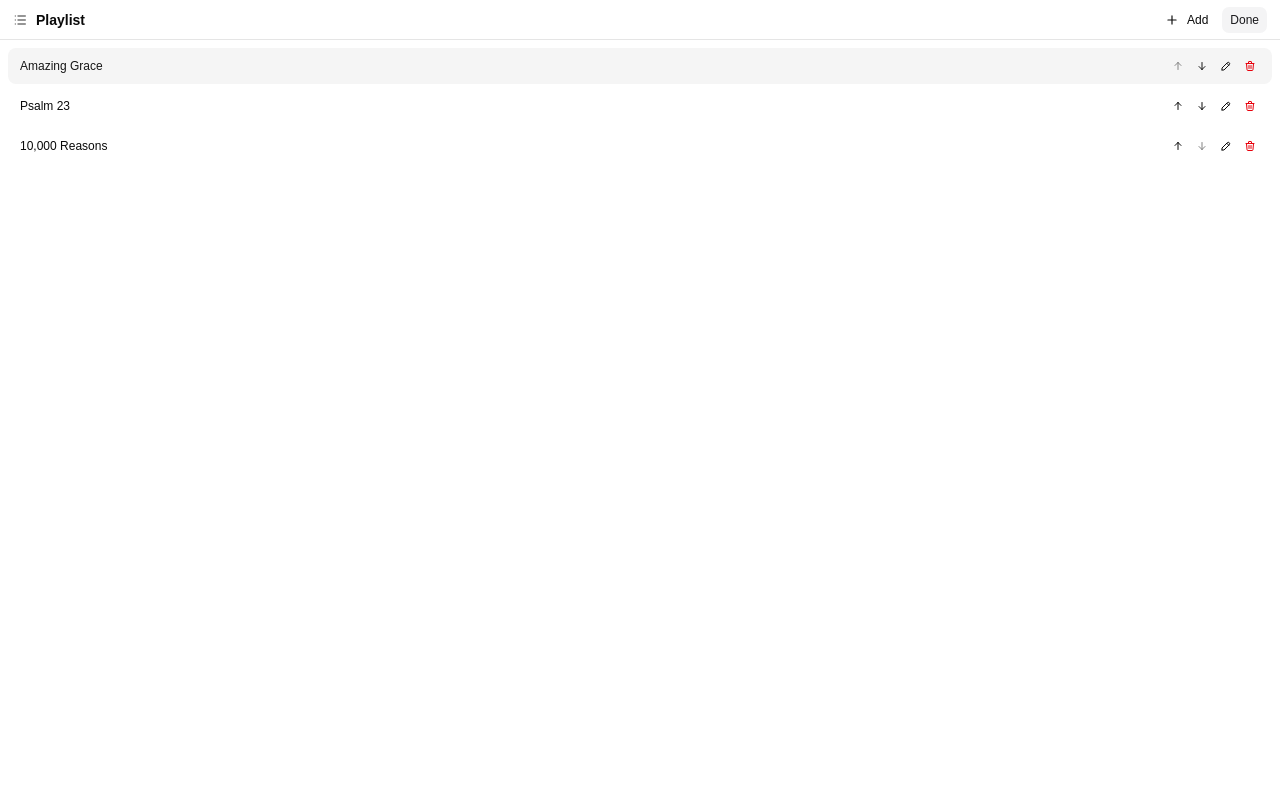
Scenario: PlaylistPanel › deleting the last item in edit mode restores focus to the preceding item
# Click delete on the last item (item 3: 10,000 Reasons)
Click the button named "Delete item" in the row of "10,000 Reasons" at (1250, 146), box [1240,136,1260,156]
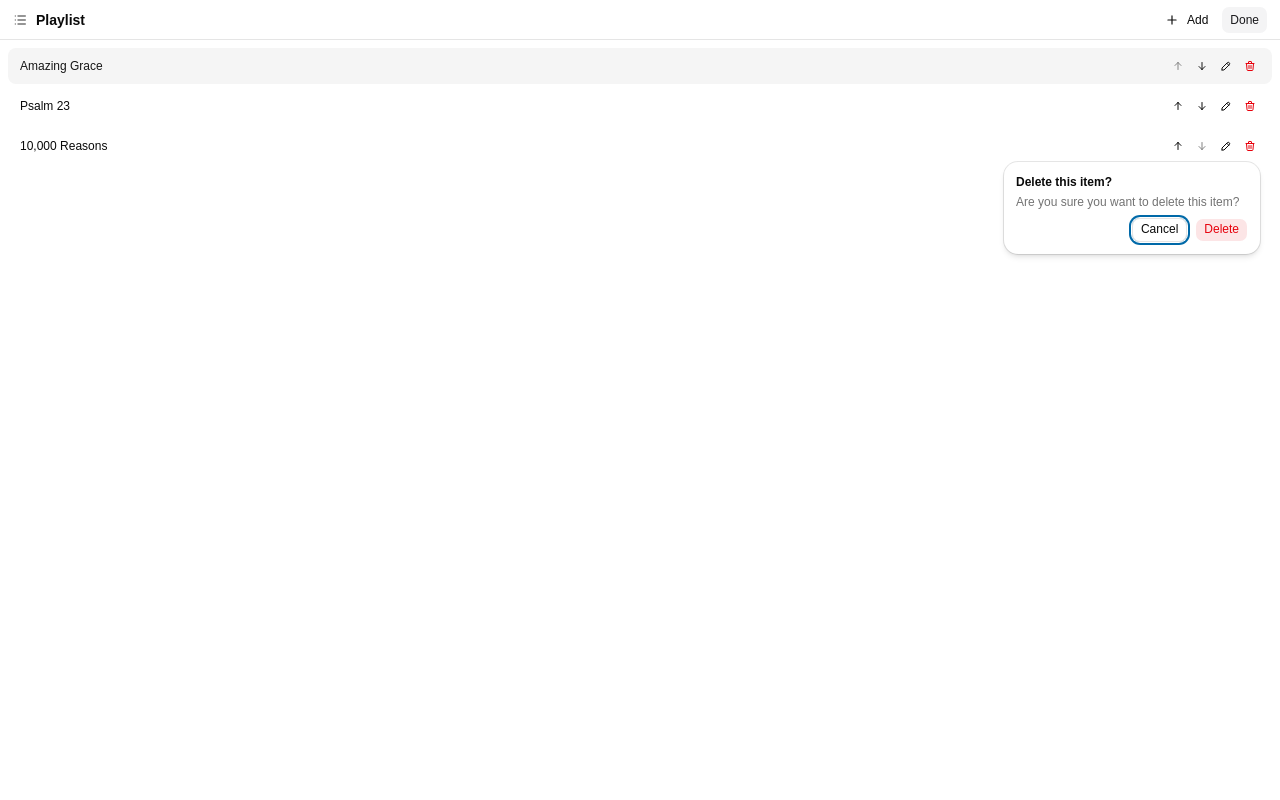
Click the button "Delete" at (1222, 230), box [1195,218,1248,242]
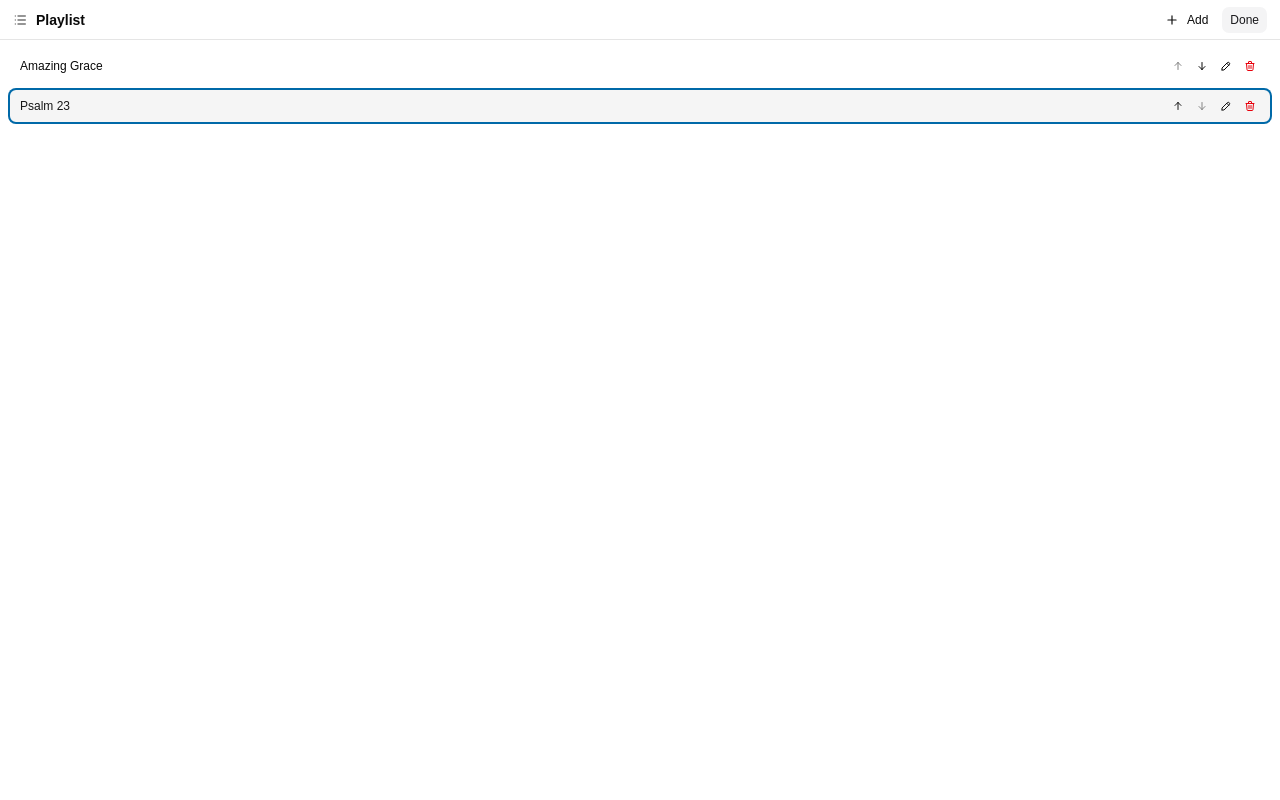
Expected: the row "Psalm 23" is shown, [8,88,1272,124]
Expected: the number of rows is 2, [20,56,1260,76]; [8,88,1272,124]
Expected: the text "10,000 Reasons" is gone
